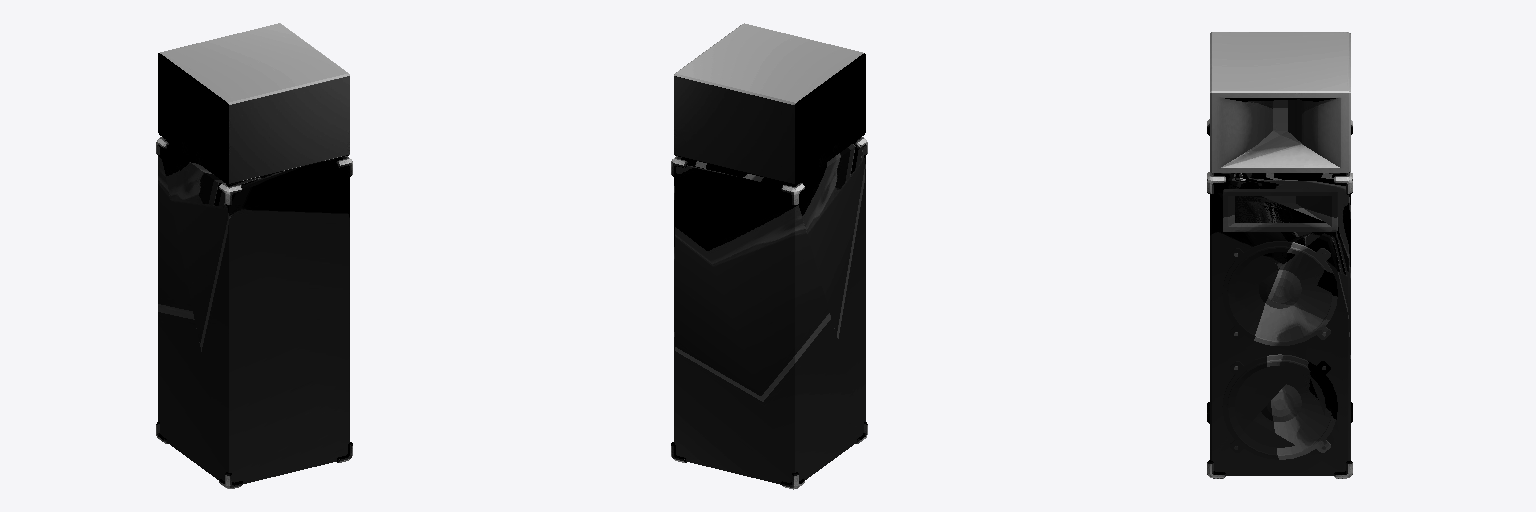
3 renders of one model, left to right at view 1: azimuth 30°, elevation 25°; view 2: azimuth 150°, elevation 25°; view 3: azimuth 270°, elevation 25°, orthographic.
Visible parts, largest first — view 1: Cube; view 2: Cube; view 3: Cube.
Part boxes in pixels (bbox=[...]): Cube: bbox=[156, 23, 352, 488]; Cube: bbox=[671, 23, 867, 489]; Cube: bbox=[1207, 32, 1352, 478].
Size of the model in its own units: 3.42 by 9.72 by 3.32.
1 materials, 1 textured.